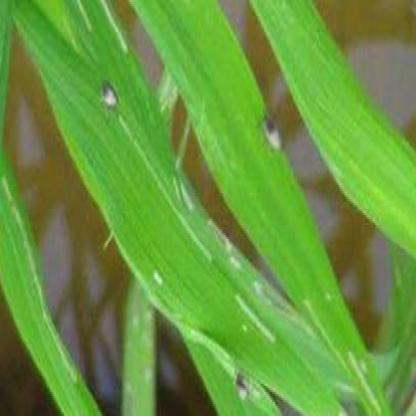rice-bug: (261, 114, 283, 150), (101, 84, 119, 106), (233, 376, 248, 402)
